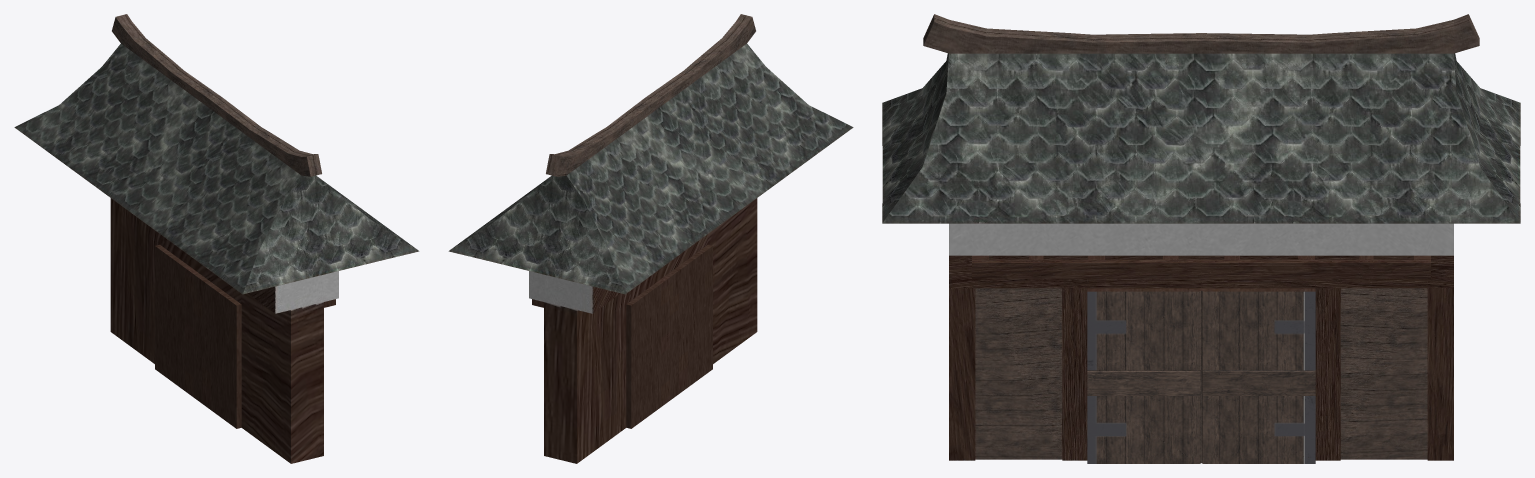
Rendered from entrada_muralla.fbx.
The picture shows the model from 3 angles, left to right: view 1: azimuth 30°, elevation 25°; view 2: azimuth 150°, elevation 25°; view 3: azimuth 270°, elevation 25°; orthographic projection. The views are drawn at different scales.
Parts seen in each view (by area): view 1: estructura, puerta; view 2: estructura, puerta; view 3: estructura, puerta, soporte.
Boxes of the visible parts, x1,y1,x2,y2 form: estructura: (14,14,419,463); puerta: (155,244,241,428); estructura: (448,14,853,463); puerta: (626,244,712,428); estructura: (882,14,1520,460); puerta: (1087,288,1315,463); soporte: (972,255,1430,278).
Size of the model in its own units: 376 by 625 by 839.
